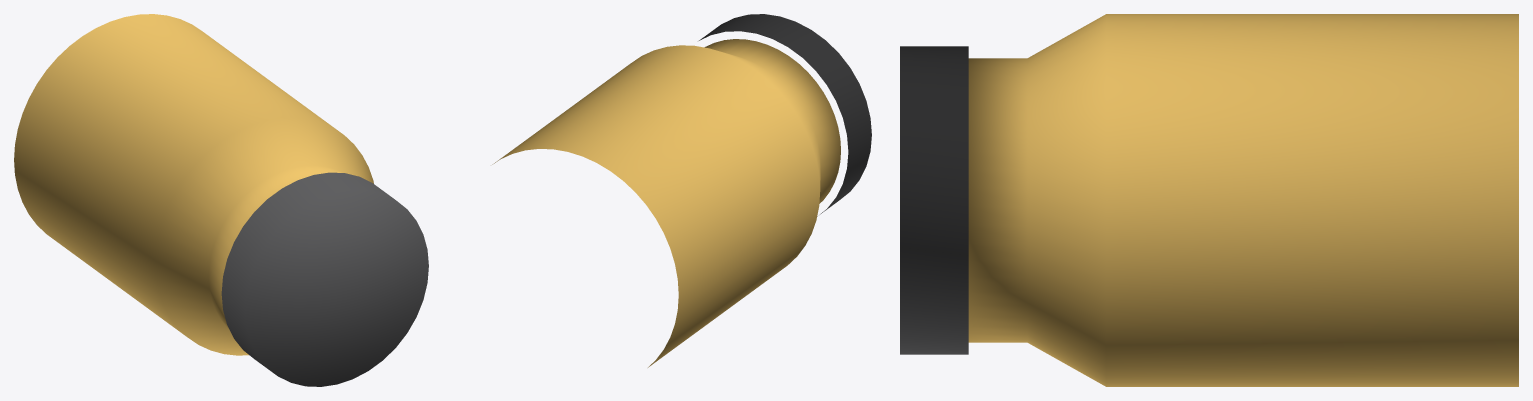
Rendered from jar.glb.
3 renders of one model, left to right at view 1: azimuth 30°, elevation 25°; view 2: azimuth 150°, elevation 25°; view 3: azimuth 270°, elevation 25°, orthographic. The views are drawn at different scales.
Parts seen in each view (by area): view 1: jar, lid; view 2: jar, lid; view 3: jar, lid.
Boxes of the visible parts, box(x1,y1,x2,y2) form: jar: box(14, 14, 373, 355); lid: box(221, 172, 428, 386); jar: box(492, 39, 840, 367); lid: box(699, 14, 871, 216); jar: box(968, 14, 1518, 386); lid: box(900, 46, 968, 354).
Bounding box in the file's own units: 0.076 × 0.076 × 0.126.
